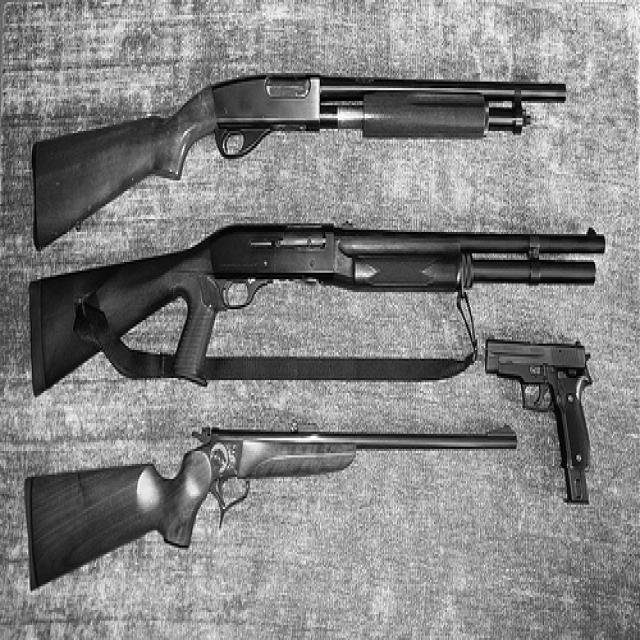Gun: (12, 414, 528, 593)
